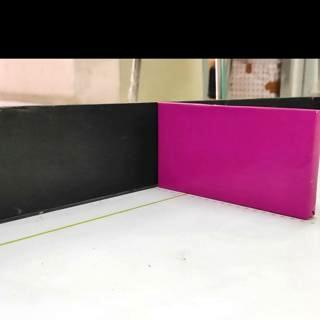xparking: (158, 114, 320, 207)
